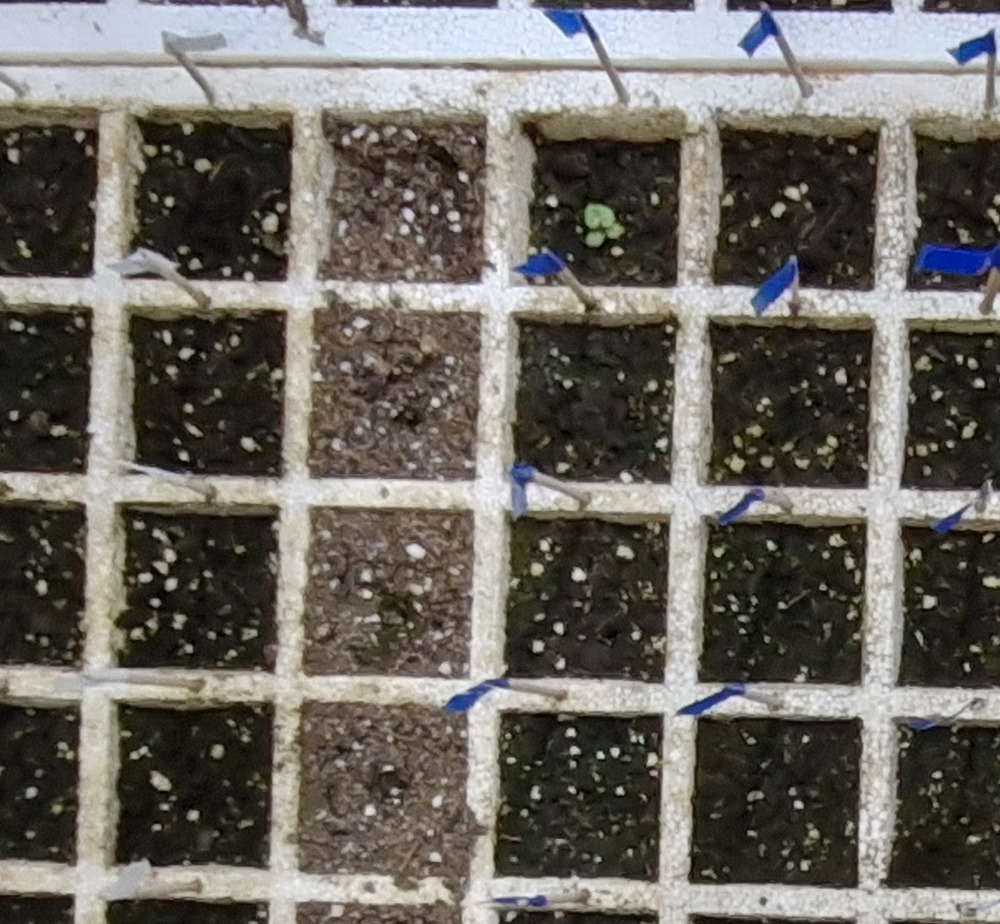Folha: (585, 205, 616, 228), (586, 231, 604, 244), (607, 225, 623, 239)
Germinacao: (585, 204, 625, 245)
